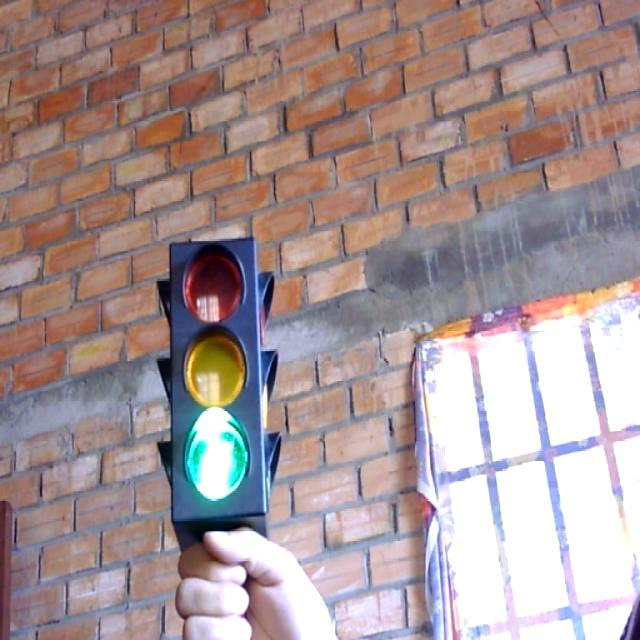Green: (156, 228, 274, 528)
